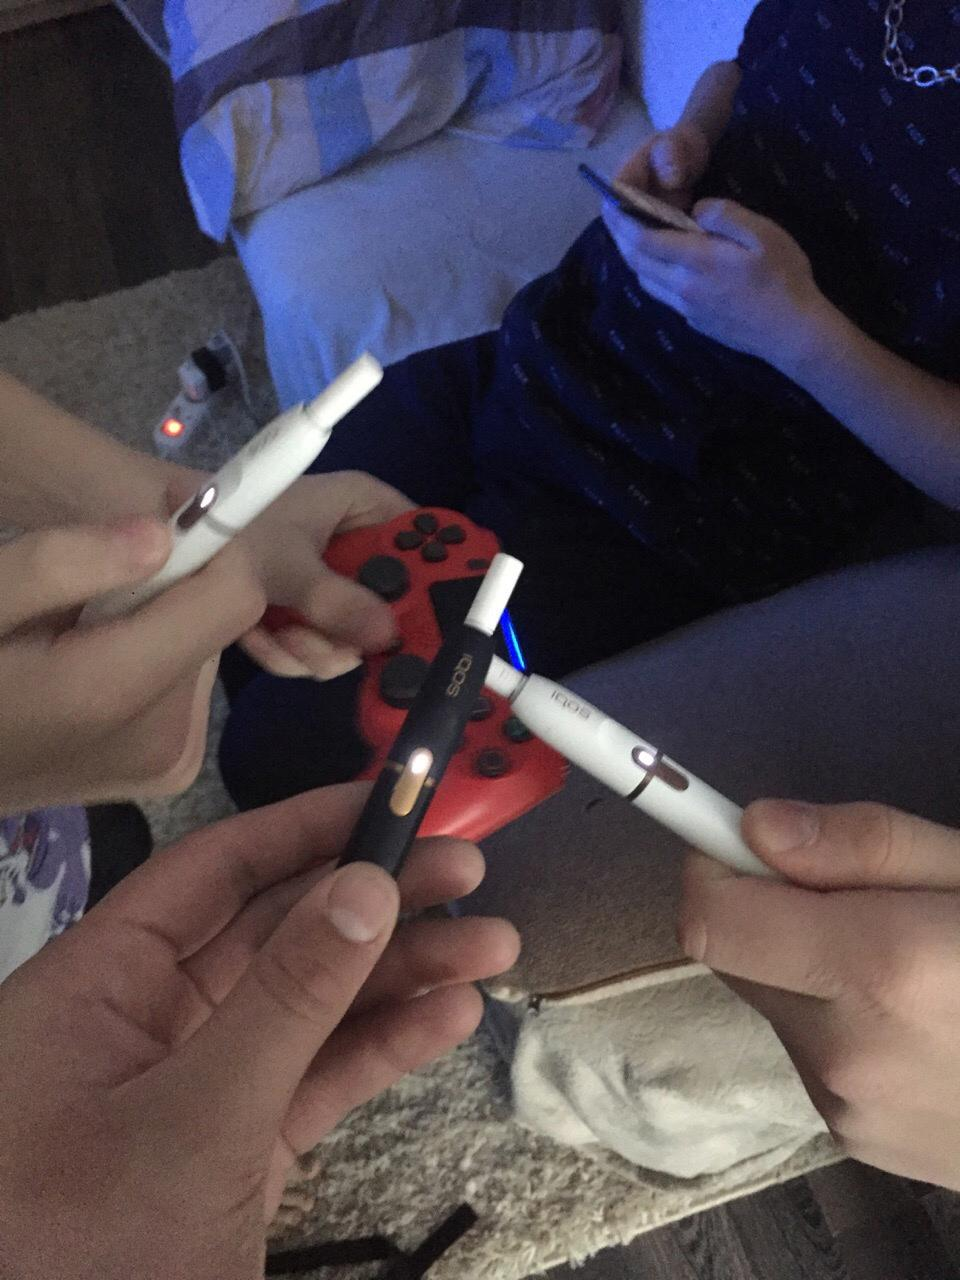iqos: (91, 354, 382, 619), (487, 659, 770, 873), (345, 555, 522, 876)
